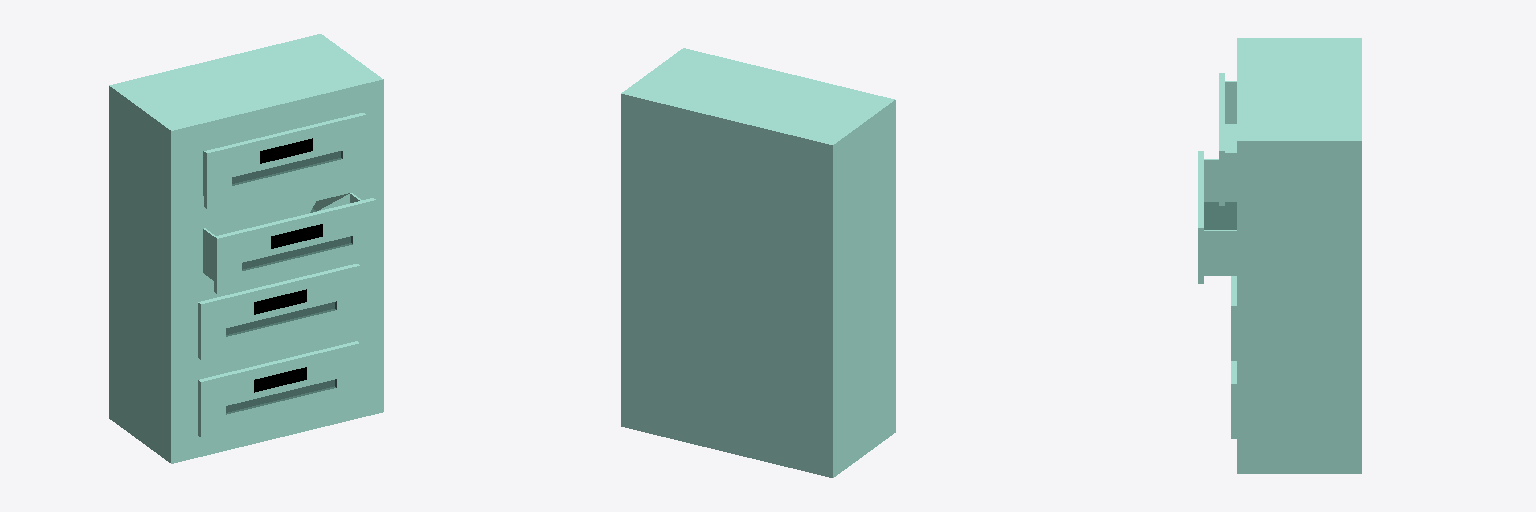
3 renders of one model, left to right at view 1: azimuth 30°, elevation 25°; view 2: azimuth 150°, elevation 25°; view 3: azimuth 270°, elevation 25°, orthographic.
Parts seen in each view (by area): view 1: pCube14, polySurface17, polySurface21, polySurface3, polySurface11; view 2: pCube14; view 3: pCube14, polySurface17, polySurface21.
Part boxes in pixels (left/top/right/bottom): pCube14: left=109, top=34, right=383, bottom=463; polySurface17: left=203, top=193, right=376, bottom=293; polySurface21: left=203, top=113, right=365, bottom=208; polySurface3: left=198, top=341, right=359, bottom=437; polySurface11: left=198, top=264, right=359, bottom=359; pCube14: left=621, top=48, right=895, bottom=477; pCube14: left=1237, top=38, right=1361, bottom=473; polySurface17: left=1198, top=151, right=1236, bottom=283; polySurface21: left=1219, top=73, right=1236, bottom=205.
Bounding box in the file's own units: 2 × 3 × 1.34.
Materials: 3 (2 with a texture image).